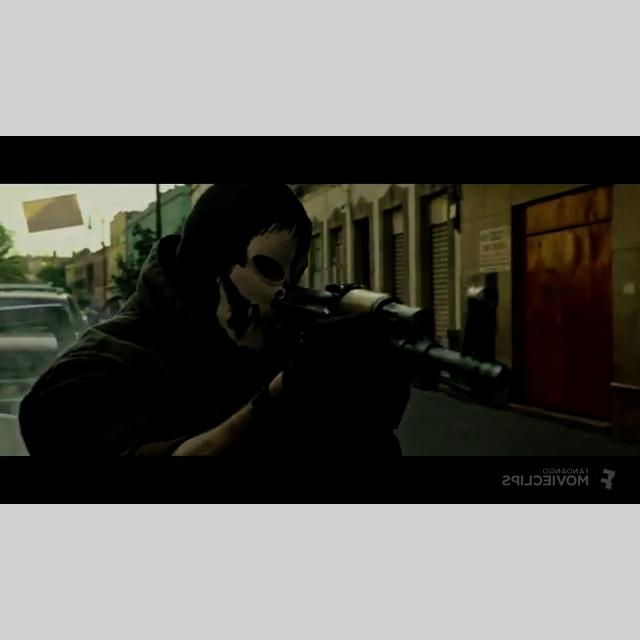criminal: (19, 184, 512, 456)
weapon: (270, 282, 512, 404)
